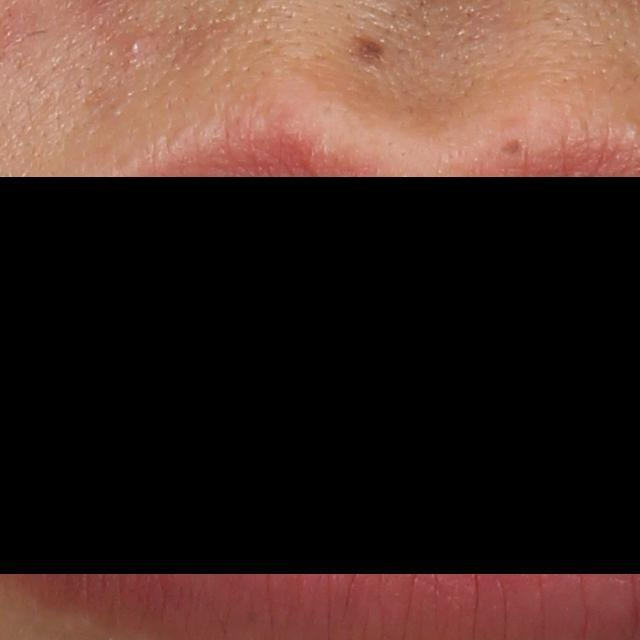comedo: (125, 32, 151, 57), (626, 128, 640, 140)
nevus: (355, 37, 383, 70), (498, 137, 526, 165)
